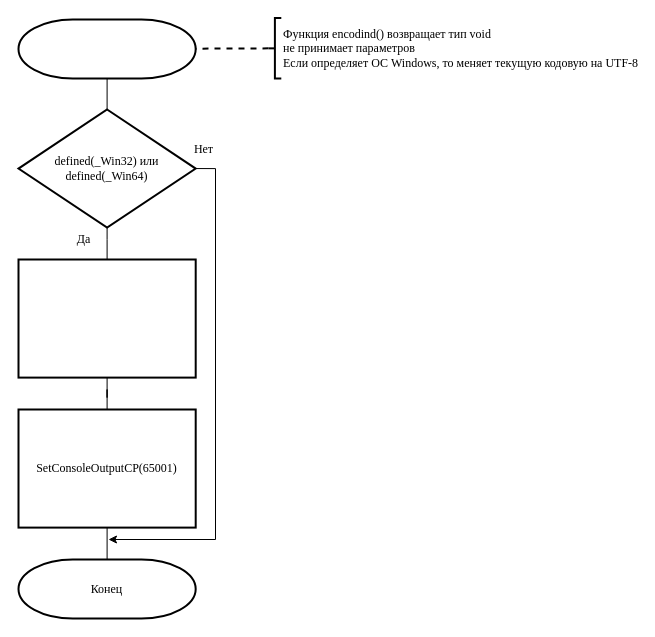
The diagram is 655 pixels wide and 637 high, and some of its shapes have lost their labels. Each missing label, with the centre of its shape:
"SetConsoleCP(65001)" goes at [106,318].
"void encoding()" goes at [106,48].
